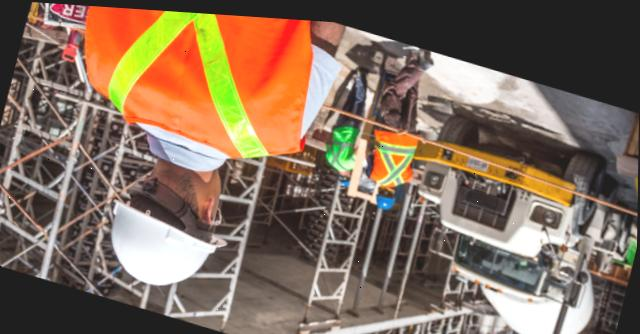helmet: (78, 185, 231, 306), (368, 182, 402, 210), (340, 170, 353, 181)
vest: (36, 2, 347, 179), (359, 111, 429, 186), (324, 114, 362, 169)
